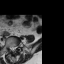CCS_normal: (12, 45, 14, 53)
LFS_stenosis: (16, 44, 18, 49)
LLS_normal: (14, 44, 16, 51)
RFS_normal: (7, 45, 9, 50)
RLS_normal: (10, 45, 12, 52)
